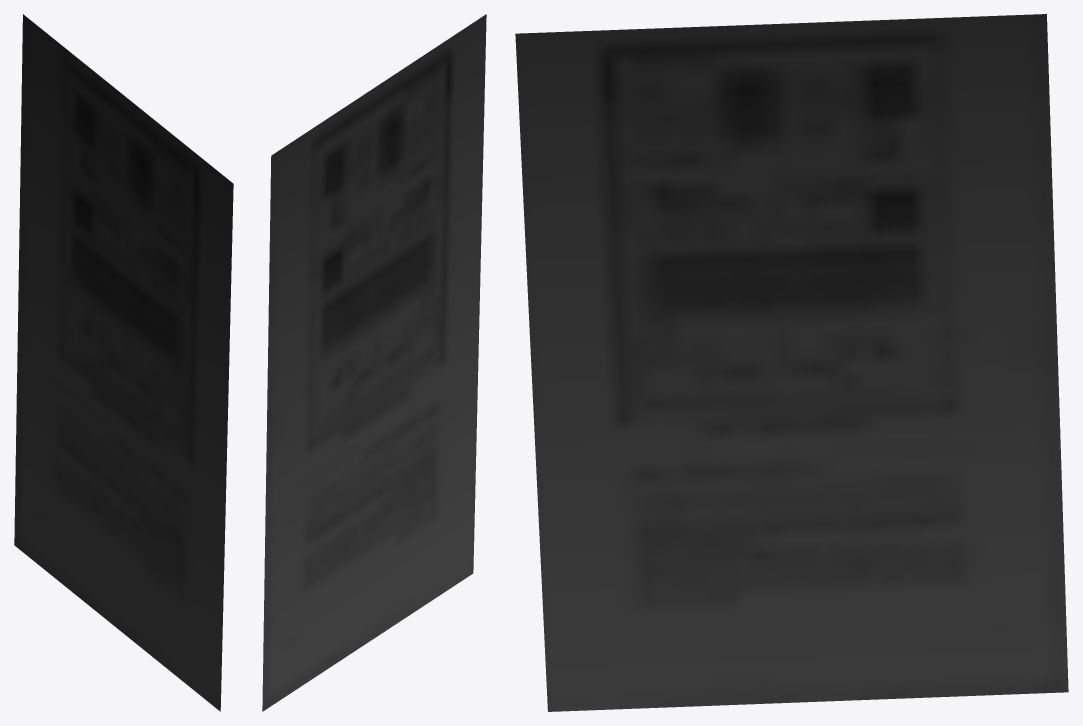
Rendered from Facility_Alpha_66.glb.
3 views of the same model, side by side, from view 1: azimuth 30°, elevation 25°; view 2: azimuth 150°, elevation 25°; view 3: azimuth 270°, elevation 25° (orthographic). The views are drawn at different scales.
Visible parts, largest first — view 1: Facility_Alpha_66; view 2: Facility_Alpha_66; view 3: Facility_Alpha_66.
Part boxes in pixels (<box>): Facility_Alpha_66: <box>14,14,233,711</box>; Facility_Alpha_66: <box>262,14,486,711</box>; Facility_Alpha_66: <box>515,14,1068,711</box>.
Bounding box in the file's own units: 0 × 8.87 × 6.38.
1 material, 1 textured.
